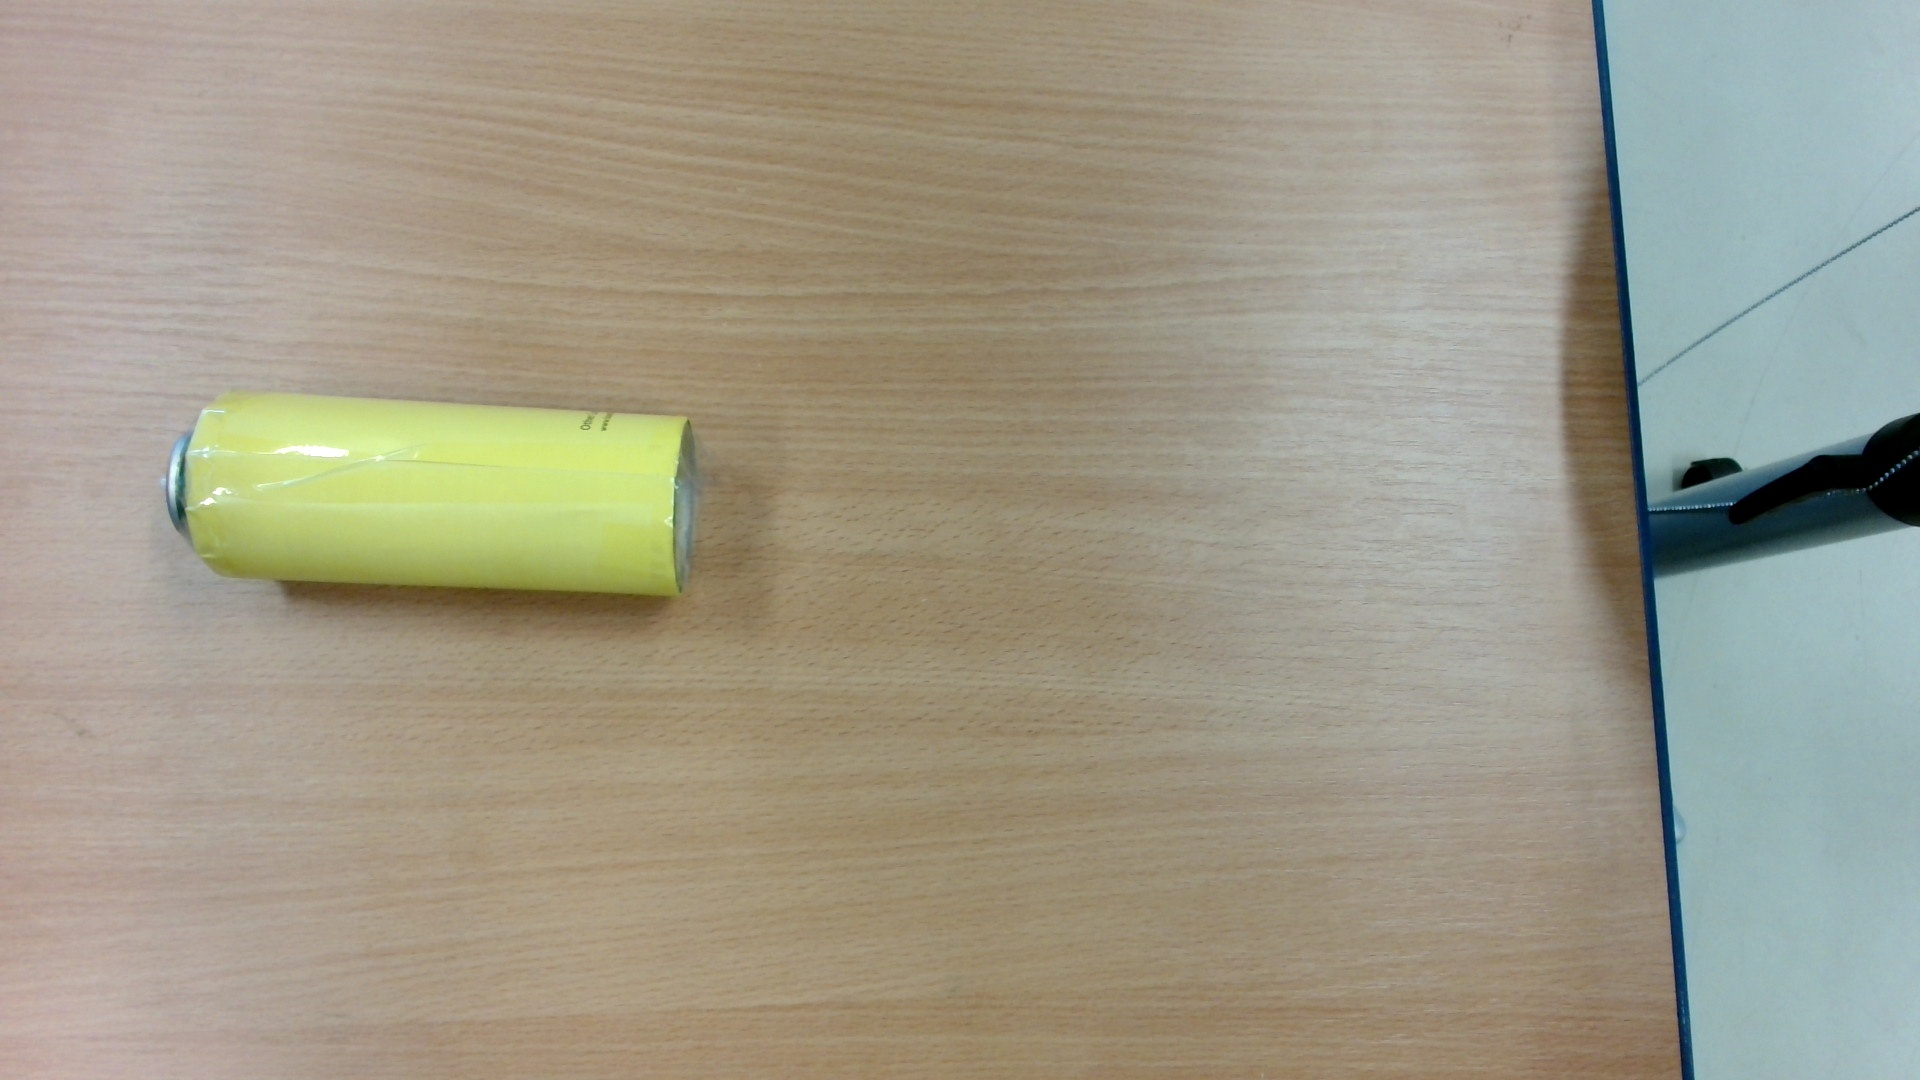Cylinder: (149, 378, 723, 618)
